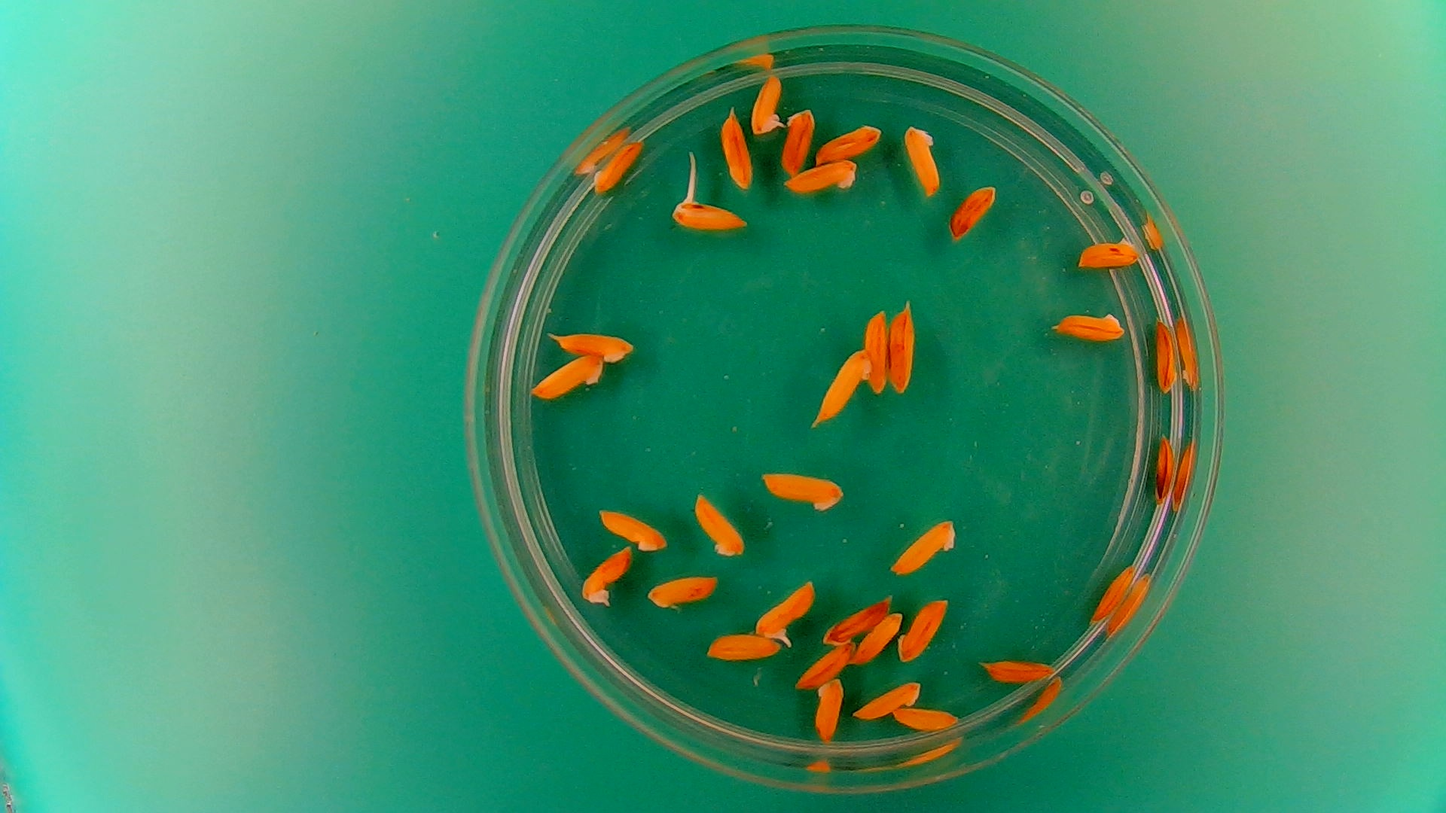no: (812, 343, 874, 427), (755, 463, 850, 513), (887, 515, 960, 577), (819, 592, 894, 647), (897, 595, 953, 666), (594, 504, 670, 555), (692, 489, 748, 558), (548, 324, 639, 364), (528, 353, 605, 400), (899, 119, 944, 199), (590, 136, 647, 196), (945, 181, 1001, 242), (1089, 560, 1139, 628), (886, 301, 920, 399), (850, 607, 905, 667), (795, 637, 856, 691), (718, 103, 755, 192), (643, 570, 721, 612), (850, 677, 924, 721), (702, 628, 786, 666), (812, 120, 886, 163), (782, 157, 860, 197), (779, 102, 818, 181), (1049, 306, 1128, 345), (977, 653, 1060, 688), (862, 304, 891, 398), (1075, 231, 1142, 269), (889, 701, 961, 735), (811, 675, 845, 745), (1152, 316, 1181, 397), (1151, 431, 1179, 506)
yes: (578, 540, 636, 607), (755, 580, 815, 641), (749, 69, 787, 139), (672, 196, 748, 230)
